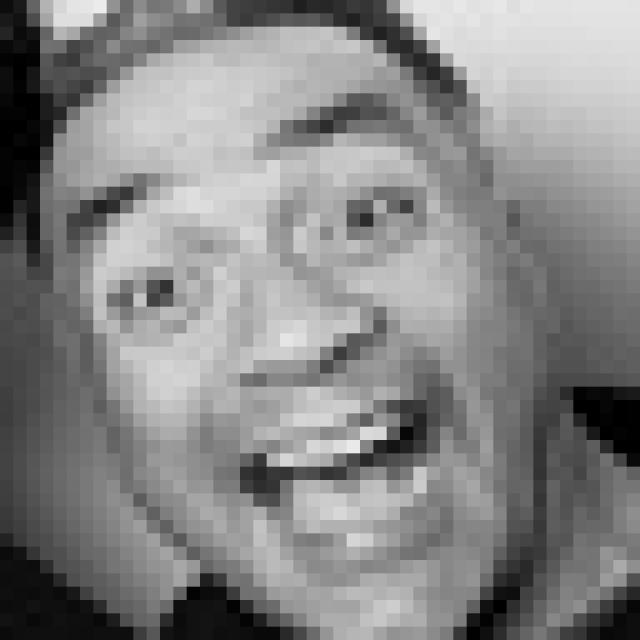happy: (66, 94, 453, 586)
